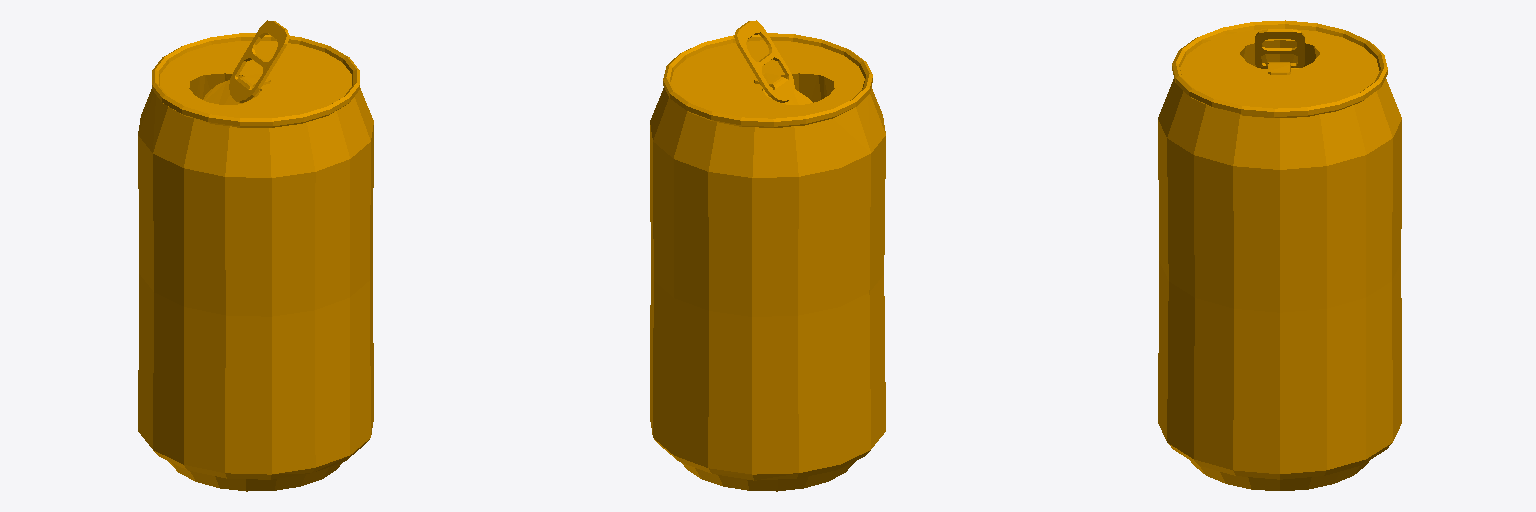
robot.urdf — mesh_object:
<robot name="mesh_object">
            <link name="base">
                <visual>
                    <geometry>
                        <mesh filename="lemonade_0_lemonade_0.obj" scale="1 1 1" />
                    </geometry>
                </visual>
                <collision>
                    <geometry>
                        <mesh filename="lemonade_0_lemonade_0.obj" scale="1 1 1" />
                    </geometry>
                </collision>
                <inertial>
                    <origin xyz="0.000000 0.000000 0.079896" rpy="0 0 0" />
                    <mass value="0.5" />
                    <inertia ixx="0.01" iyy="0.01" izz="0.01" ixy="0" ixz="0" iyz="0" />
                </inertial>
            </link>
            </robot>

--- Facts derived from the render (not from the file) ---
3 views of the same robot in one strip: view 1: azimuth 30°, elevation 25°; view 2: azimuth 150°, elevation 25°; view 3: azimuth 270°, elevation 25° (orthographic).
Robot: mesh_object — 1 links, 0 joints (none); root link base; default pose: all joints at 0.
Visible links, largest first — view 1: base; view 2: base; view 3: base.
Link boxes in pixels (x1,y1,x2,y2): base: [138, 20, 373, 491]; base: [650, 20, 885, 491]; base: [1158, 20, 1401, 490].
Bounding box of the posed robot: 0.0815 × 0.0815 × 0.1598 m (x, y, z).
1 mesh visuals loaded from 1 distinct referenced files (1 OBJ).
